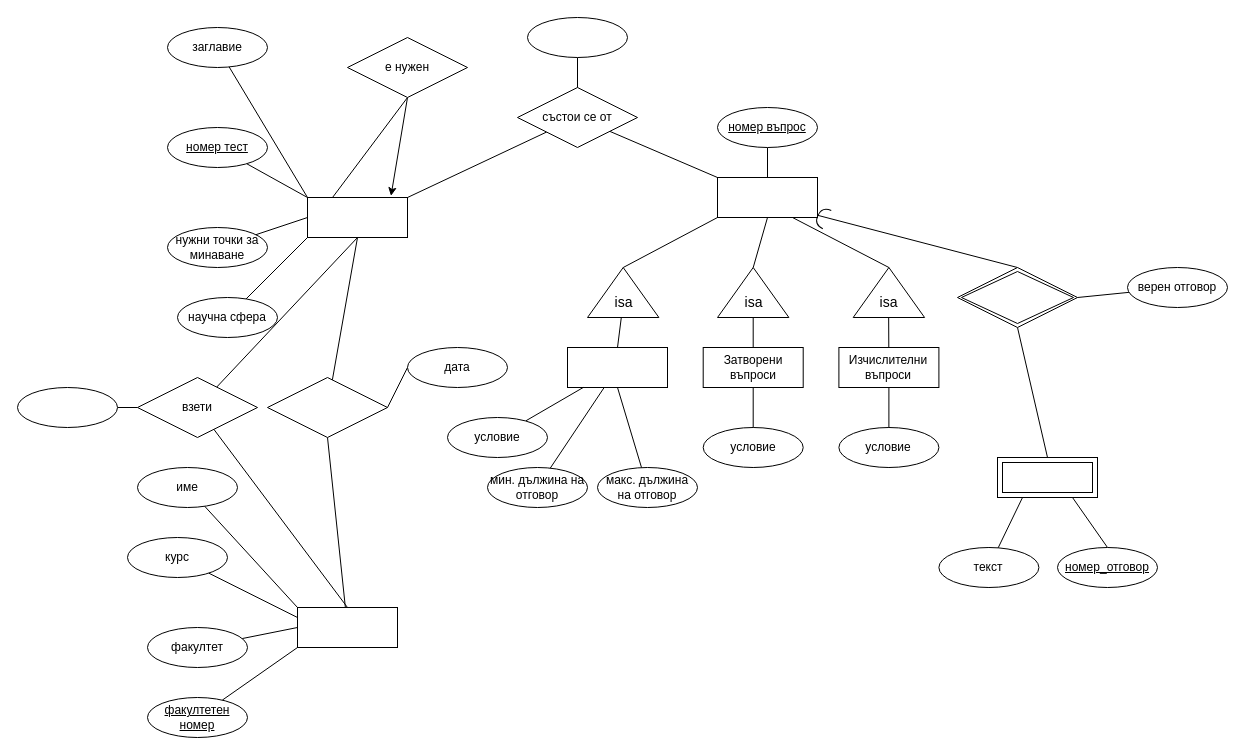
Image size: 1245x755. Some labels were removed from this diagram. Each missing label, with the centre of its shape:
"Въпроси" goes at point (767, 197).
"Есета" goes at point (617, 367).
"Изпити" goes at point (357, 217).
"отговаря на" goes at point (1017, 297).
"Отговори" goes at point (1047, 477).
"оценка" goes at point (67, 407).
"Студенти" goes at point (347, 627).
"точки" goes at point (577, 37).
"явява се" goes at point (327, 407).
